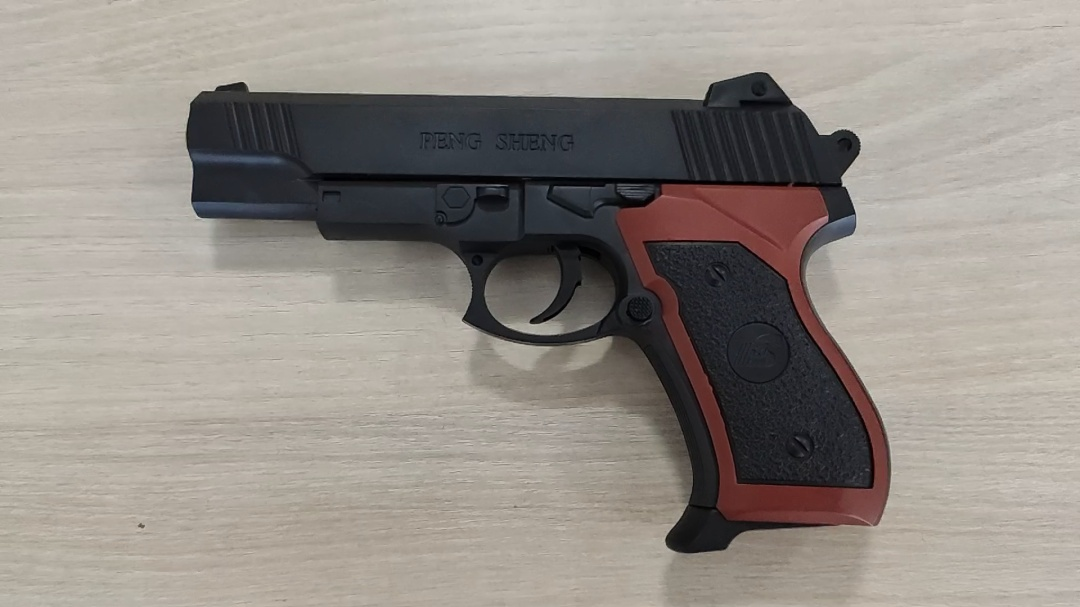gun: (223, 233, 683, 440)
